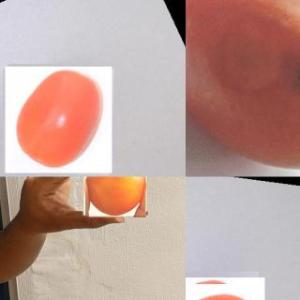tomato: (6, 67, 112, 173), (85, 177, 147, 216)
